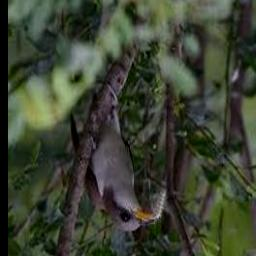Cuckoo: (71, 106, 154, 231)
